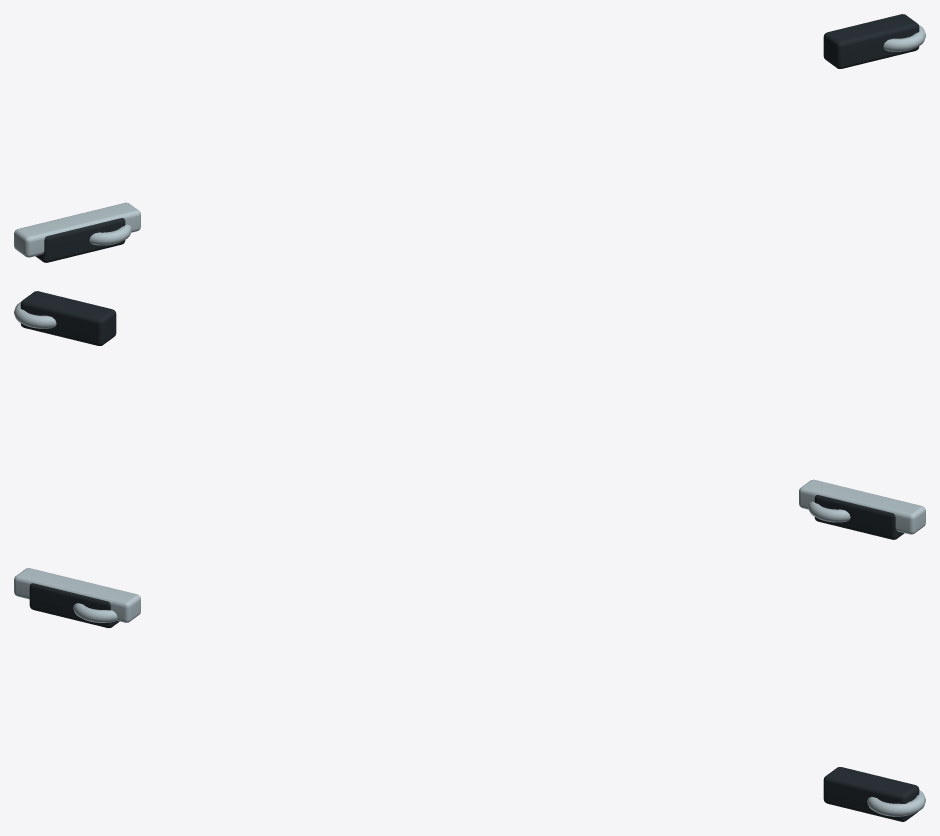
The model's file is couplers.glb.
3 renders of one model, top to bottom at view 1: azimuth 30°, elevation 25°; view 2: azimuth 150°, elevation 25°; view 3: azimuth 330°, elevation 25°, orthographic.
Parts seen in each view (by area): view 1: Coupler shank.001, Engine drawbar, Coupler shank, Coupling eye.001, Coupling eye; view 2: Coupler shank.001, Engine drawbar, Coupler shank, Coupling eye.001, Coupling eye; view 3: Coupler shank.001, Engine drawbar, Coupler shank, Coupling eye.001, Coupling eye.
Part boxes in pixels (x1,y1,x2,y2): Coupler shank.001: (823,14,919,68); Engine drawbar: (14,202,140,257); Coupler shank: (35,218,125,262); Coupling eye.001: (883,25,925,51); Coupling eye: (89,224,131,245); Coupler shank.001: (20,291,116,345); Engine drawbar: (799,479,925,534); Coupler shank: (814,495,904,539); Coupling eye.001: (14,302,56,328); Coupling eye: (808,501,850,522); Coupler shank.001: (823,767,919,821); Engine drawbar: (14,568,140,622); Coupler shank: (29,583,119,628); Coupling eye.001: (867,790,925,816); Coupling eye: (73,603,117,622).
Bounding box in the file's own units: 5.43 × 0.17 × 0.308.
